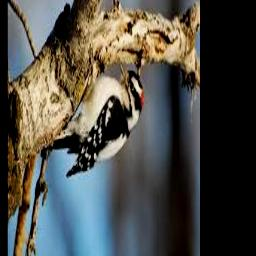Woodpecker: (47, 60, 143, 178)
